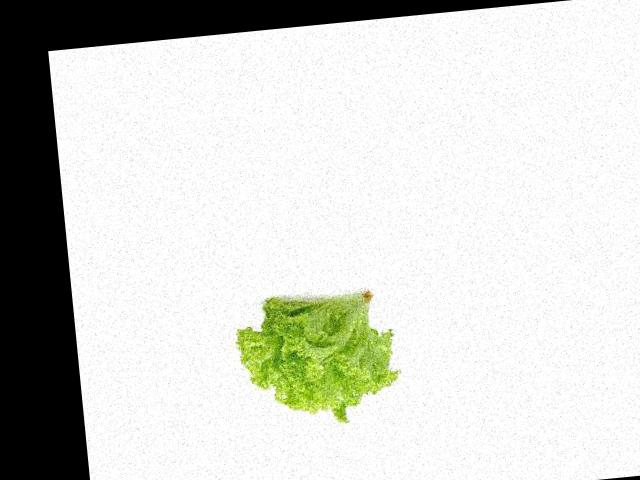lettuce: (241, 267, 401, 425)
